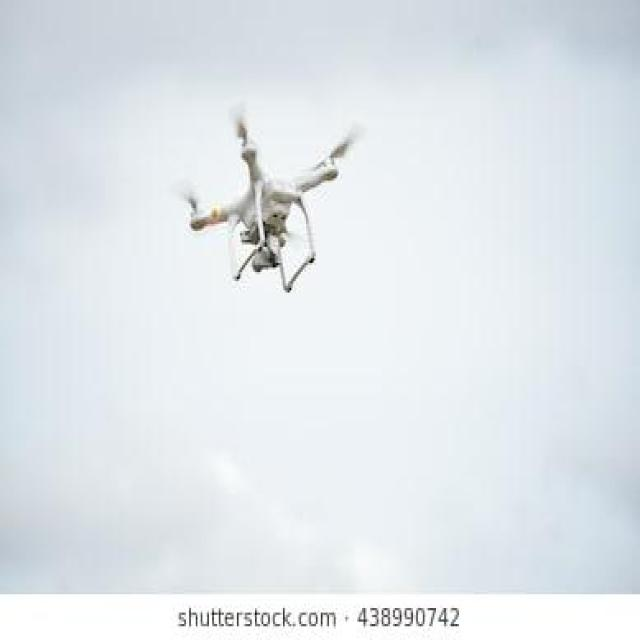drone: (148, 81, 385, 328)
